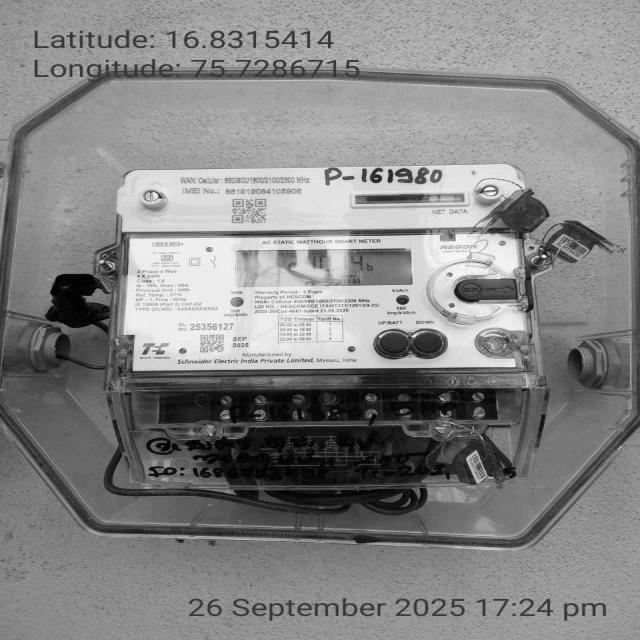meter: (116, 172, 544, 369)
